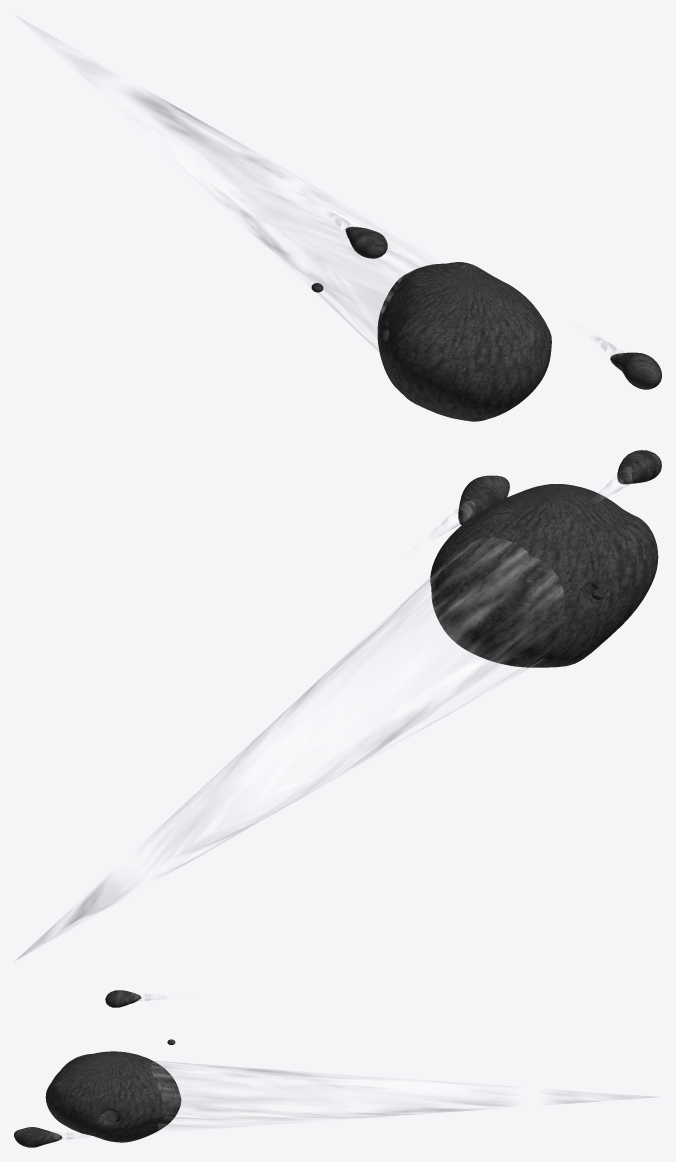
The model's file is Asteroid.glb.
The picture shows the model from 3 angles, top to bottom: view 1: azimuth 30°, elevation 25°; view 2: azimuth 150°, elevation 25°; view 3: azimuth 270°, elevation 25°; orthographic projection. The views are drawn at different scales.
Visible parts, largest first — view 1: col-meteroid, noncol-Cone.001; view 2: col-meteroid, noncol-Cone.001; view 3: noncol-Cone.001, col-meteroid.
Part boxes in pixels (x1,y1,x2,y2): col-meteroid: [311, 226, 661, 421]; noncol-Cone.001: [15, 15, 449, 351]; col-meteroid: [430, 450, 661, 667]; noncol-Cone.001: [15, 537, 563, 960]; noncol-Cone.001: [151, 1061, 660, 1132]; col-meteroid: [14, 990, 181, 1147].
Size of the model in its own units: 174 by 140 by 685.
Materials: 4 (3 with a texture image).
